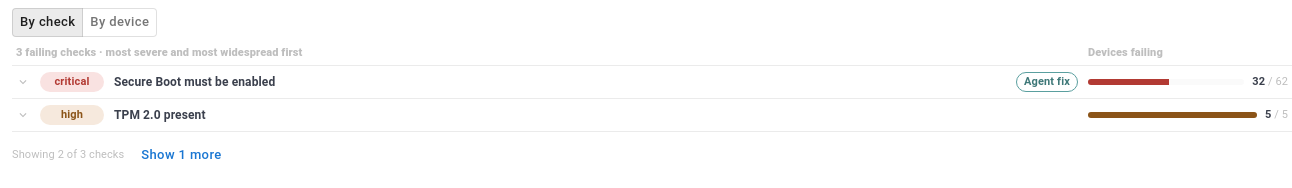
CategoryDrilldown — by check (default) › says how much is left and loads the next page on demand, appending
Expected: the text "Secure Boot must be enabled" is shown, [114,75,275,89]
Expected: the text "Showing 2 of 3 checks" is shown, [12,147,124,164]
Click the button "Show 1 more". click: (181, 156)
box: [136,140,227,171]
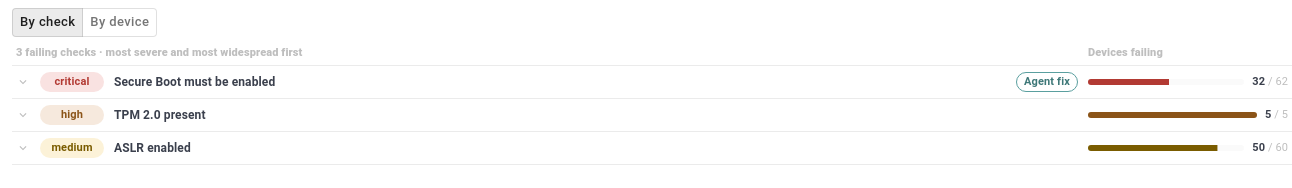
Expected: the text "Secure Boot must be enabled" is shown, [114,75,275,89]
Expected: the text "ASLR enabled" is shown, [114,141,191,155]
Expected: the text "Showing" is gone
